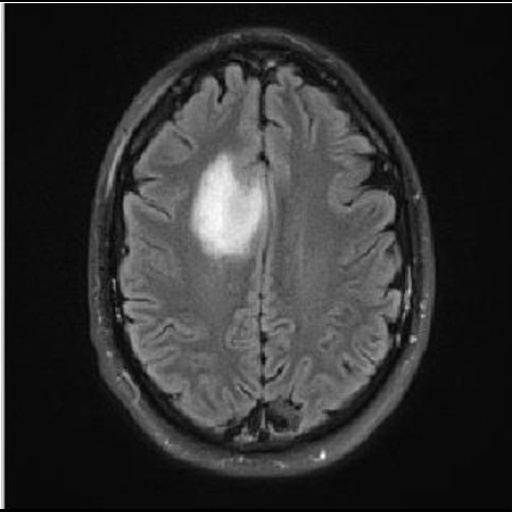tumor: (190, 149, 273, 266)
